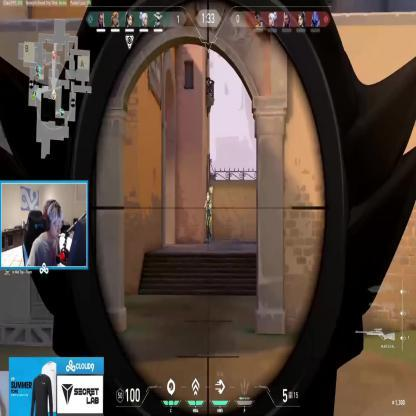enemy: (203, 192, 212, 243)
enemy_head: (206, 192, 210, 202)
